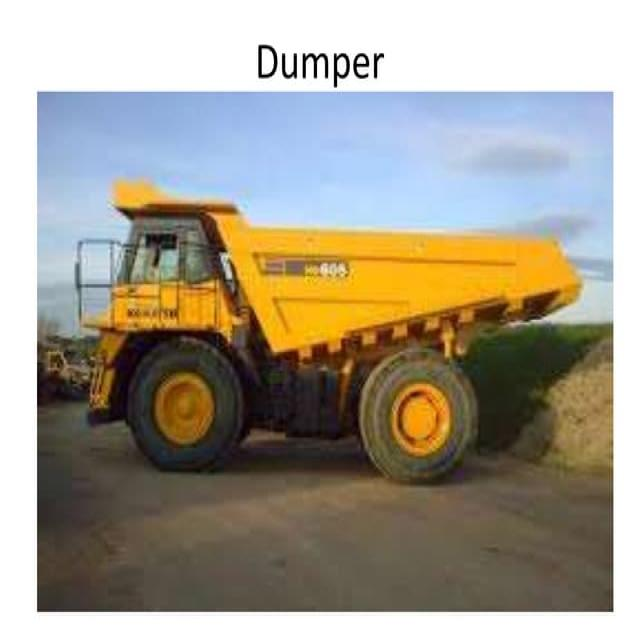dump_truck: (55, 156, 595, 497)
